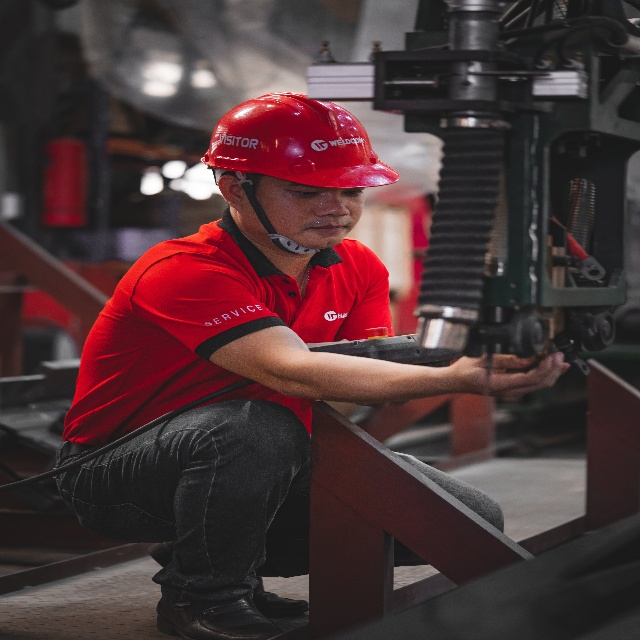Sin_guantes: (449, 351, 570, 400)
